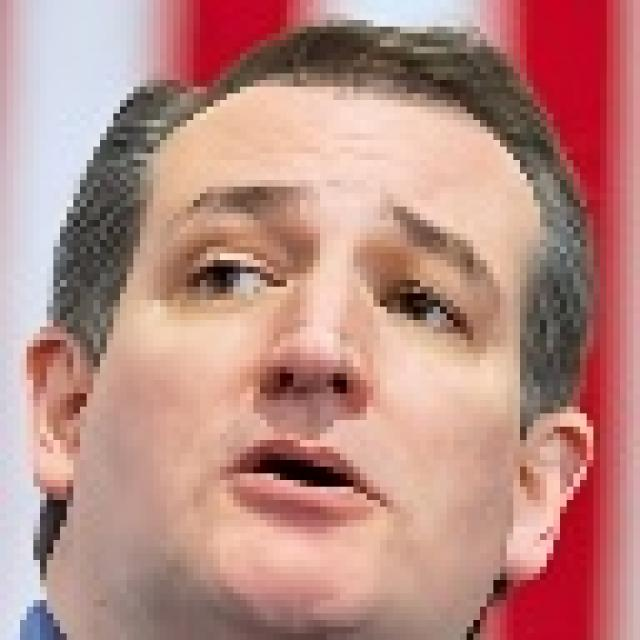sad: (28, 72, 572, 640)
